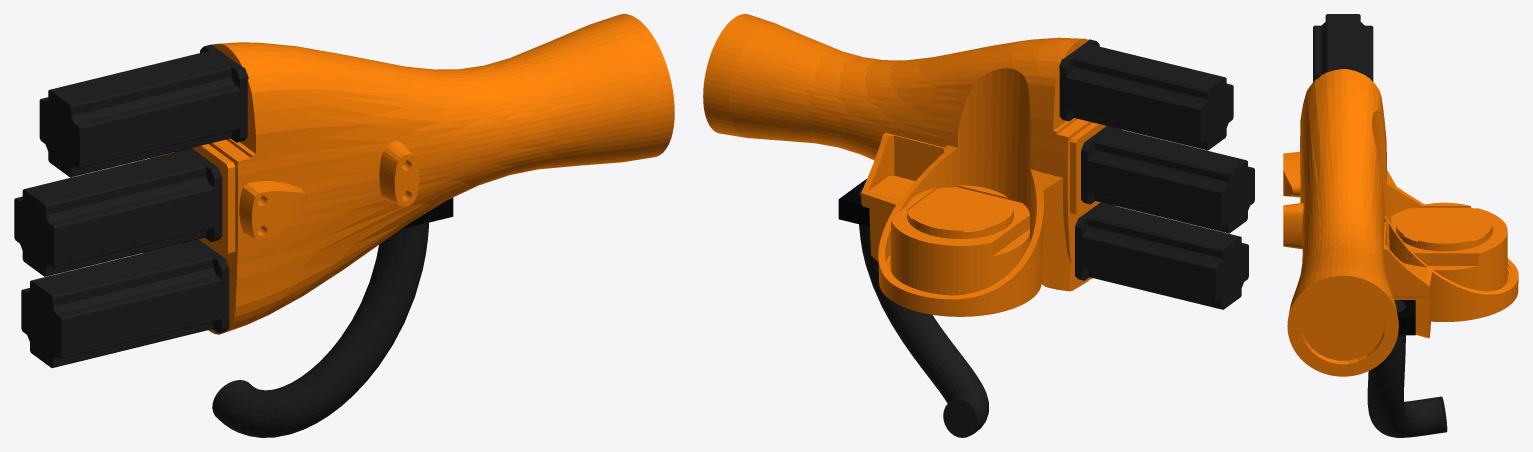
3 renders of one model, left to right at view 1: azimuth 30°, elevation 25°; view 2: azimuth 150°, elevation 25°; view 3: azimuth 270°, elevation 25°, orthographic. The views are drawn at different scales.
Visible parts, largest first — view 1: node0, node3, node2; view 2: node0, node3, node2, node1; view 3: node0, node2, node3, node1.
Part boxes in pixels (x1,y1,x2,y2): node0: (143, 14, 674, 334); node3: (14, 44, 248, 367); node2: (212, 222, 428, 437); node0: (703, 14, 1121, 316); node3: (1059, 39, 1254, 309); node2: (858, 189, 988, 437); node1: (838, 179, 869, 226); node0: (1283, 69, 1518, 376); node2: (1367, 300, 1447, 437); node3: (1313, 14, 1373, 82); node1: (1397, 300, 1415, 335).
Size of the model in its own units: 0.627 by 0.2791 by 0.4402.
